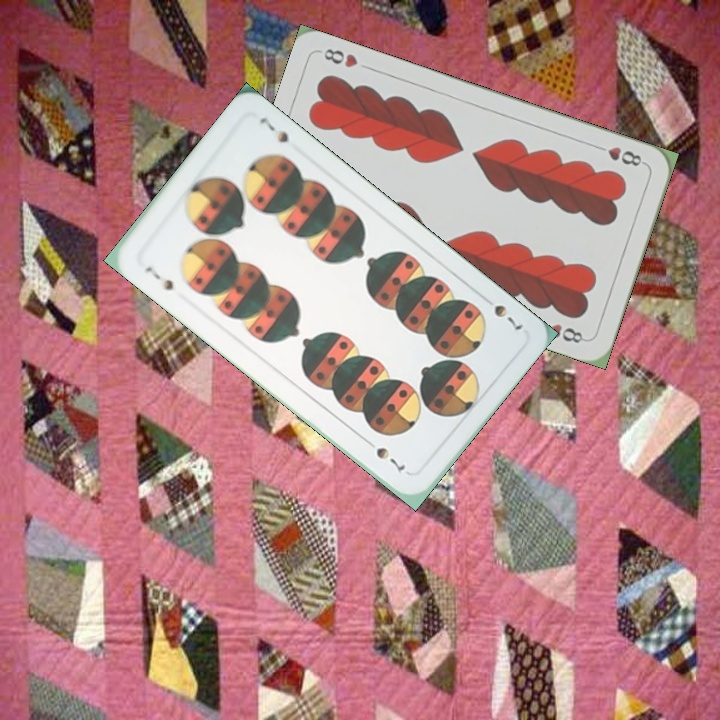H8: (591, 141, 648, 169)
S7: (489, 300, 526, 333), (140, 262, 177, 293)
